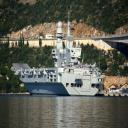Portanaves: (13, 12, 106, 97)
